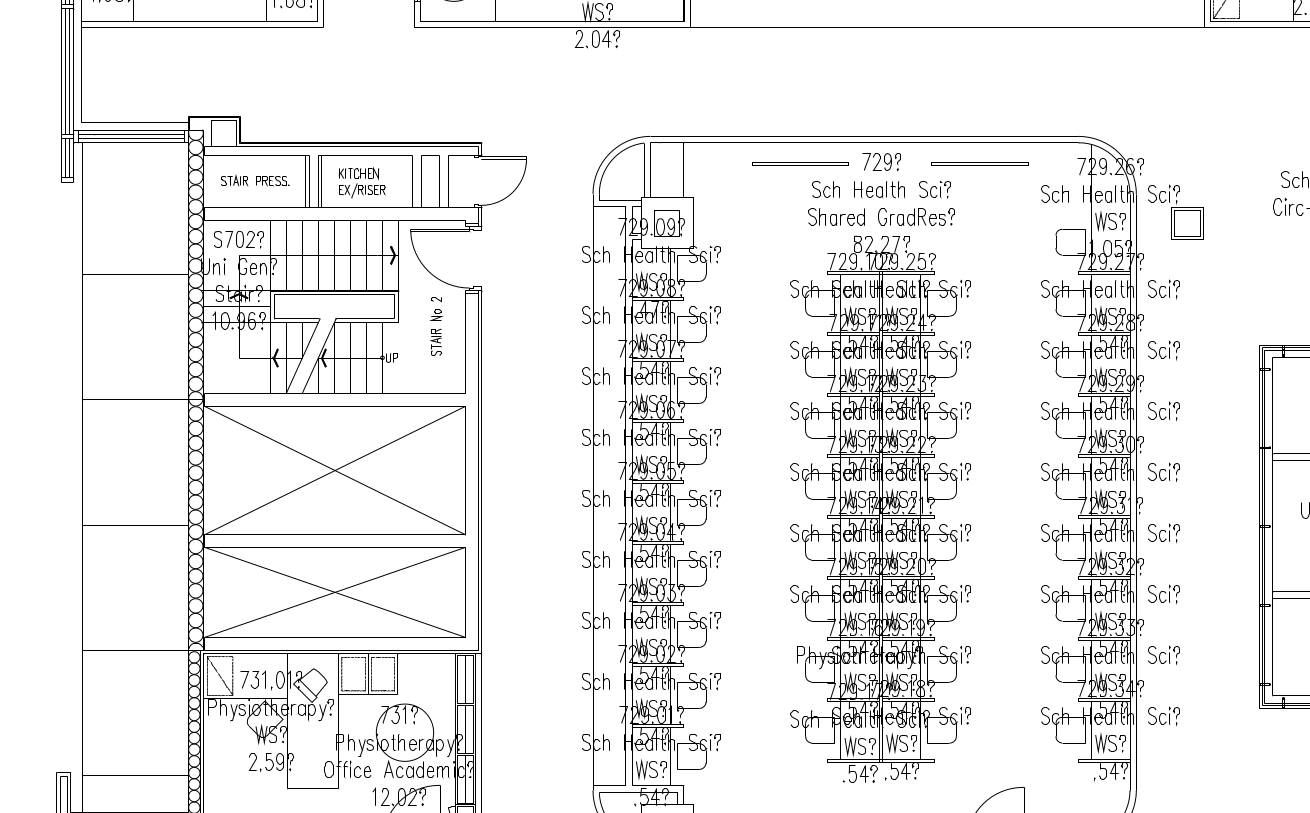door: (407, 224, 465, 290), (479, 146, 537, 212), (974, 777, 1030, 813)
